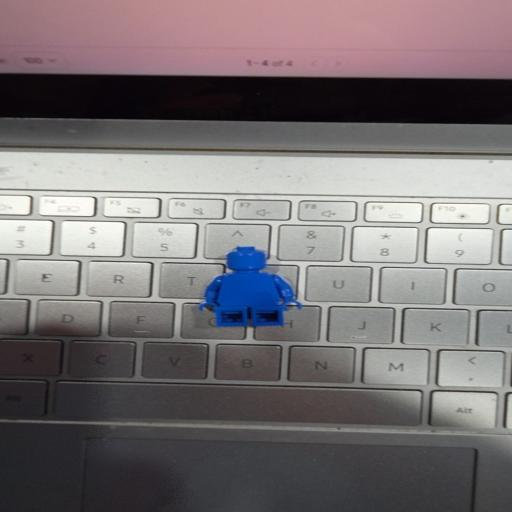Blue: (199, 247, 301, 326)
